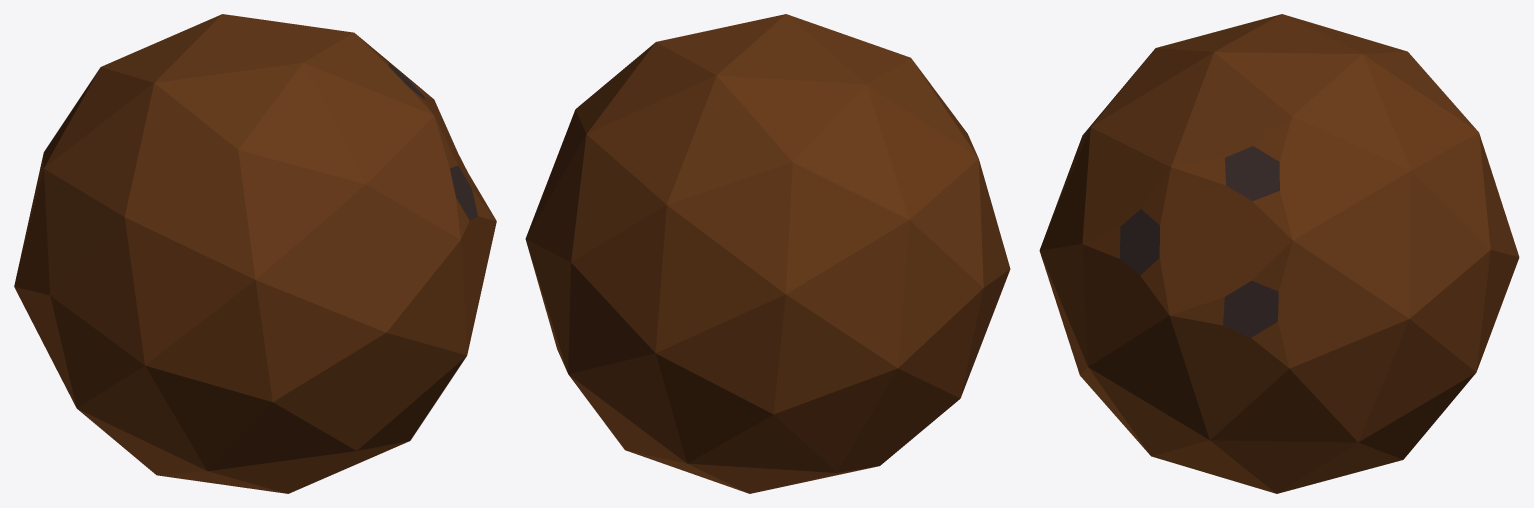
Rendered from Coconut_tex.fbx.
3 views of the same model, side by side, from view 1: azimuth 30°, elevation 25°; view 2: azimuth 150°, elevation 25°; view 3: azimuth 270°, elevation 25° (orthographic).
Parts seen in each view (by area): view 1: Coconut_tex; view 2: Coconut_tex; view 3: Coconut_tex.
Part boxes in pixels (<box>): Coconut_tex: <box>14,14,496,493</box>; Coconut_tex: <box>525,14,1010,493</box>; Coconut_tex: <box>1039,14,1519,493</box>.
Bounding box in the file's own units: 0.3436 × 0.3307 × 0.344.
